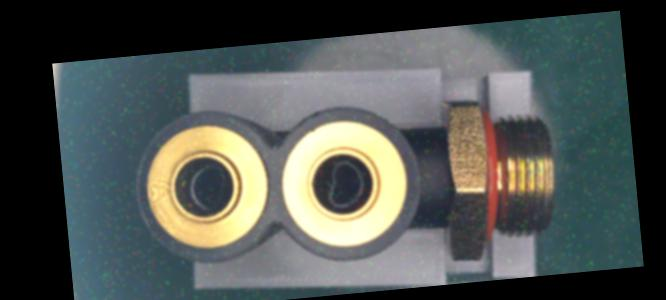off-centered: (182, 161, 233, 214), (319, 156, 368, 209)
